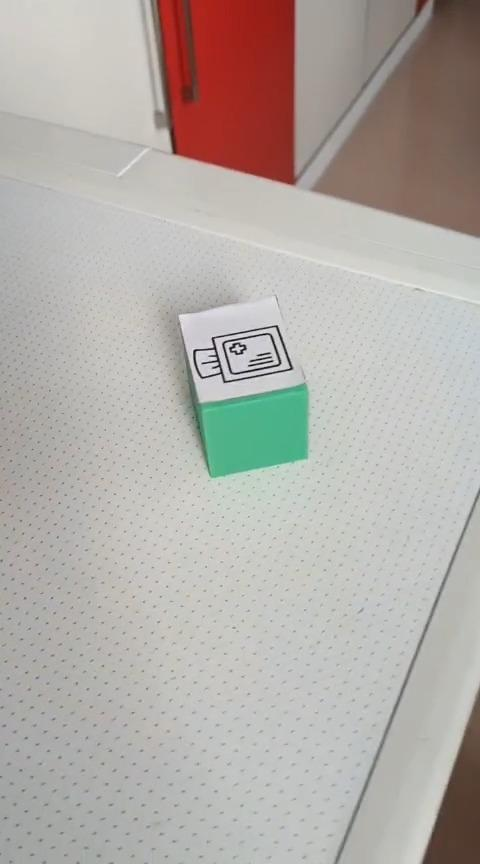Gauze: (176, 293, 309, 478)
